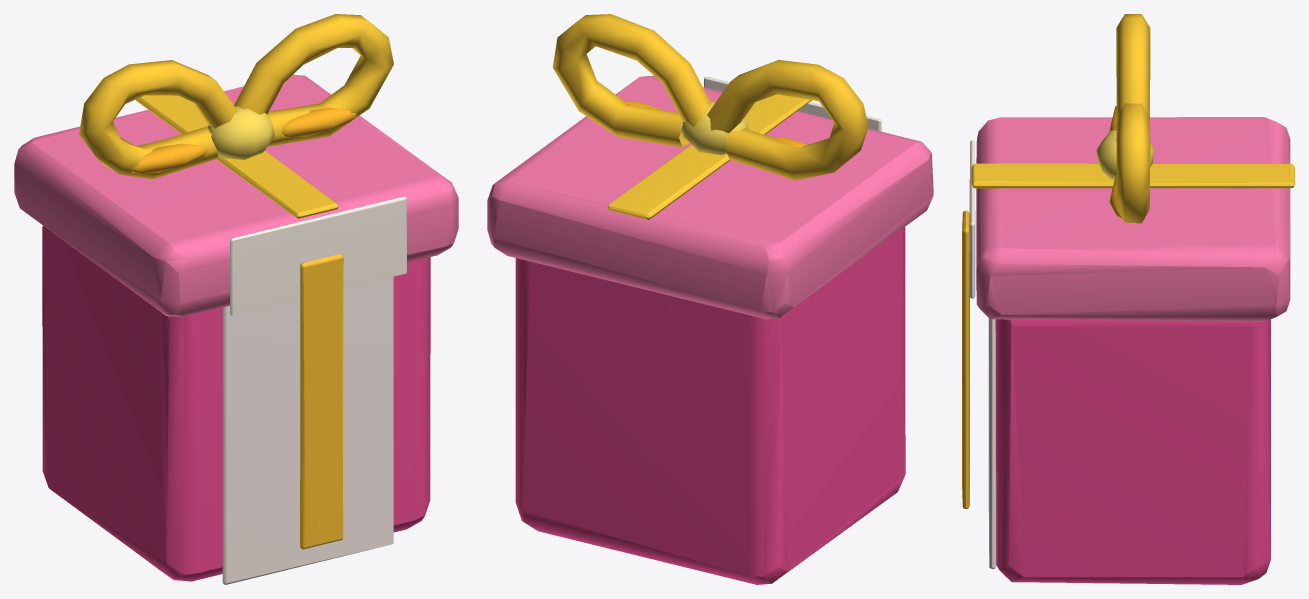
The model's file is candy-box.glb.
3 views of the same model, side by side, from view 1: azimuth 30°, elevation 25°; view 2: azimuth 150°, elevation 25°; view 3: azimuth 270°, elevation 25° (orthographic). The views are drawn at different scales.
Visible parts, largest first — view 1: gift body, gift lid, cream side band, gold ribbon front, lid cream stripe, bow loop.001, bow loop, gold ribbon lid, bow knot, bow tail, bow tail.001; view 2: gift body, gift lid, bow loop.001, bow loop, gold ribbon lid, bow knot, lid cream stripe; view 3: gift body, gift lid, gold ribbon lid, bow loop.001, bow loop, gold ribbon front, cream side band, lid cream stripe, bow knot.
Boxes of the visible parts, x1,y1,x2,y2 form: gift body: (42, 226, 430, 581); gift lid: (14, 74, 458, 317); cream side band: (222, 276, 393, 584); gold ribbon front: (300, 254, 343, 549); lid cream stripe: (230, 196, 406, 315); bow loop.001: (234, 14, 393, 146); bow loop: (79, 60, 237, 179); gold ribbon lid: (135, 95, 338, 218); bow knot: (208, 106, 274, 159); bow tail: (129, 143, 207, 173); bow tail.001: (282, 107, 356, 137); gift body: (515, 227, 905, 584); gift lid: (487, 75, 933, 319); bow loop.001: (552, 14, 711, 147); bow loop: (707, 60, 868, 180); gold ribbon lid: (608, 94, 811, 219); bow knot: (681, 101, 748, 155); lid cream stripe: (704, 77, 881, 131); gift body: (995, 319, 1270, 584); gift lid: (976, 117, 1290, 321); gold ribbon lid: (971, 163, 1294, 188); bow loop.001: (1116, 103, 1150, 223); bow loop: (1116, 14, 1150, 117); gold ribbon front: (962, 211, 969, 508); cream side band: (988, 318, 996, 569); lid cream stripe: (969, 140, 975, 298); bow knot: (1096, 129, 1154, 179).
Size of the model in its own units: 0.5378 by 0.788 by 0.515.
